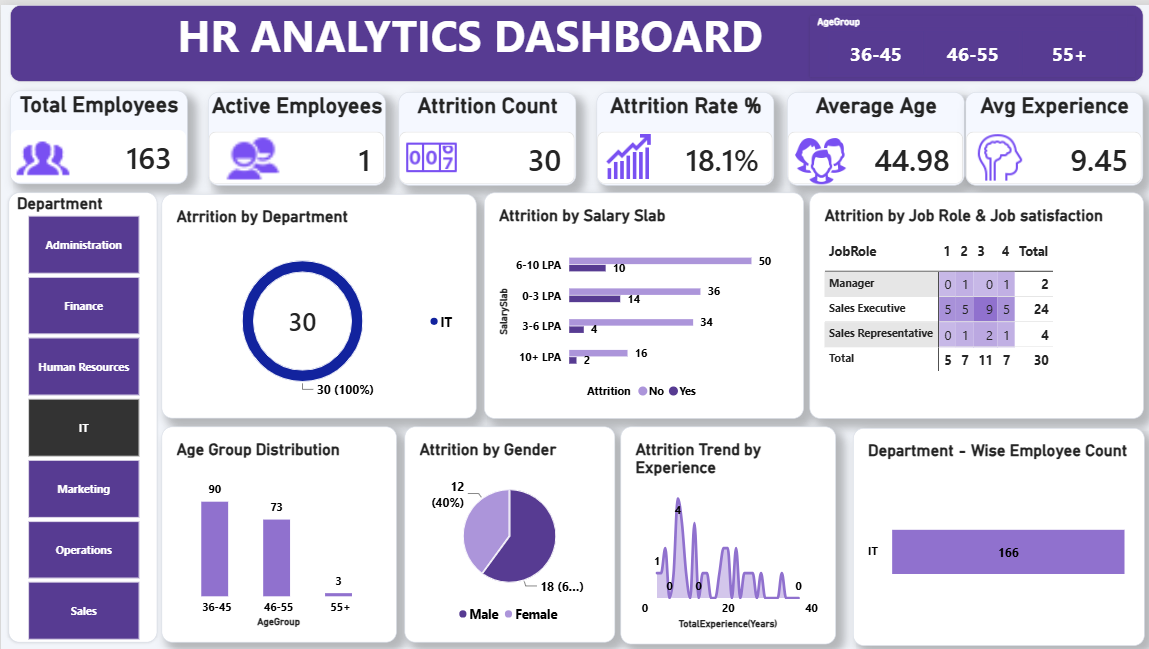

What the dashboard file says about the page in this screenshot:
{"tool":"powerbi","page":{"name":"Page 1","canvas":[1920,1080],"ordinal":0},"visuals":[{"type":"textbox","box":[10,0,1259,85],"z":0},{"type":"cardVisual","title":"Total Employees","fields":{"Data":["Count(HR_Analytics-4.EmpID)"]},"box":[10,95,197,104],"z":1000},{"type":"cardVisual","title":"Active Employees","fields":{"Data":["Count(HR_Analytics-4.EmployeeCount)"]},"box":[230,96,197,104],"z":2000},{"type":"cardVisual","title":"Attrition Count","fields":{"Data":["Sum(HR_Analytics-4.AtrritionCount)"]},"box":[442,96,197,104],"z":3000},{"type":"cardVisual","title":"Attrition Rate %","fields":{"Data":["HR_Analytics-4.Attrition Rate %"]},"box":[662,96,197,104],"z":4000},{"type":"cardVisual","title":"Average Age","fields":{"Data":["Avg(HR_Analytics-4.Age)"]},"box":[874,96,197,104],"z":5000},{"type":"cardVisual","title":"Avg Experience","fields":{"Data":["Avg(HR_Analytics-4.YearsatCompany)"]},"box":[1072,96,197,104],"z":6000},{"type":"image","box":[10,140,73.3,58.3],"z":7000},{"type":"image","box":[1072.5,140,73.3,58.3],"z":8000},{"type":"image","box":[243.3,140,73.3,58.3],"z":9000},{"type":"image","box":[662.5,142.5,66.7,50],"z":10000},{"type":"image","box":[875,142.5,73.3,58.3],"z":11000},{"type":"image","box":[441.7,140,73.3,58.3],"z":12000},{"type":"donutChart","title":"Atrrition by Department","fields":{"Category":["HR_Analytics-4.Department"],"Y":["Sum(HR_Analytics-4.AtrritionCount)"]},"box":[179,210,350,249],"z":13000},{"type":"clusteredBarChart","title":"Attrition by Salary Slab","fields":{"Category":["HR_Analytics-4.SalarySlab"],"Series":["HR_Analytics-4.Attrition"],"Y":["CountNonNull(HR_Analytics-4.EmpID)"]},"box":[537,209,355,251],"z":14000},{"type":"pivotTable","title":"Attrition by Job Role & Job satisfaction","fields":{"Columns":["HR_Analytics-4.JobSatisfaction"],"Rows":["HR_Analytics-4.JobRole"],"Values":["Sum(HR_Analytics-4.AtrritionCount)"]},"box":[898,209,371,251],"z":15000},{"type":"columnChart","title":"Age Group Distribution","fields":{"Category":["HR_Analytics-4.AgeGroup"],"Y":["Sum(HR_Analytics-4.EmployeeCount)"]},"box":[179,469,261,240],"z":16000},{"type":"pieChart","title":"Attrition by Gender","fields":{"Category":["HR_Analytics-4.Gender"],"Y":["Sum(HR_Analytics-4.AtrritionCount)"]},"box":[448,469,234,240],"z":17000},{"type":"areaChart","title":"Attrition Trend by Experience","fields":{"Category":["HR_Analytics-4.TotalExperience(Years)"],"Y2":["Sum(HR_Analytics-4.AtrritionCount)"]},"box":[689,469,239,242],"z":18000},{"type":"funnel","title":"Department - Wise Employee Count","fields":{"Category":["HR_Analytics-4.Department"],"Y":["CountNonNull(HR_Analytics-4.EmpID)"]},"box":[946,470,324,242],"z":19000},{"type":"slicer","fields":{"Values":["HR_Analytics-4.Department"]},"box":[9,209,165,500],"z":20000},{"type":"slicer","fields":{"Values":["HR_Analytics-4.AgeGroup"]},"box":[898,12,361,68],"z":21000}]}

Visuals, with their boxes in screenshot pixels (x1, y1, x2, y2), scaled from the page's 1920x1080 canvas onto the 1149x649 screenshot:
textbox: [left=6, top=0, right=759, bottom=51]
"Total Employees" cardVisual: [left=6, top=57, right=124, bottom=120]
"Active Employees" cardVisual: [left=138, top=58, right=256, bottom=120]
"Attrition Count" cardVisual: [left=265, top=58, right=382, bottom=120]
"Attrition Rate %" cardVisual: [left=396, top=58, right=514, bottom=120]
"Average Age" cardVisual: [left=523, top=58, right=641, bottom=120]
"Avg Experience" cardVisual: [left=642, top=58, right=759, bottom=120]
image: [left=6, top=84, right=50, bottom=119]
image: [left=642, top=84, right=686, bottom=119]
image: [left=146, top=84, right=189, bottom=119]
image: [left=396, top=86, right=436, bottom=116]
image: [left=524, top=86, right=567, bottom=121]
image: [left=264, top=84, right=308, bottom=119]
"Atrrition by Department" donutChart: [left=107, top=126, right=317, bottom=276]
"Attrition by Salary Slab" clusteredBarChart: [left=321, top=126, right=534, bottom=276]
"Attrition by Job Role & Job satisfaction" pivotTable: [left=537, top=126, right=759, bottom=276]
"Age Group Distribution" columnChart: [left=107, top=282, right=263, bottom=426]
"Attrition by Gender" pieChart: [left=268, top=282, right=408, bottom=426]
"Attrition Trend by Experience" areaChart: [left=412, top=282, right=555, bottom=427]
"Department - Wise Employee Count" funnel: [left=566, top=282, right=760, bottom=428]
slicer - HR_Analytics-4.Department: [left=5, top=126, right=104, bottom=426]
slicer - HR_Analytics-4.AgeGroup: [left=537, top=7, right=753, bottom=48]
